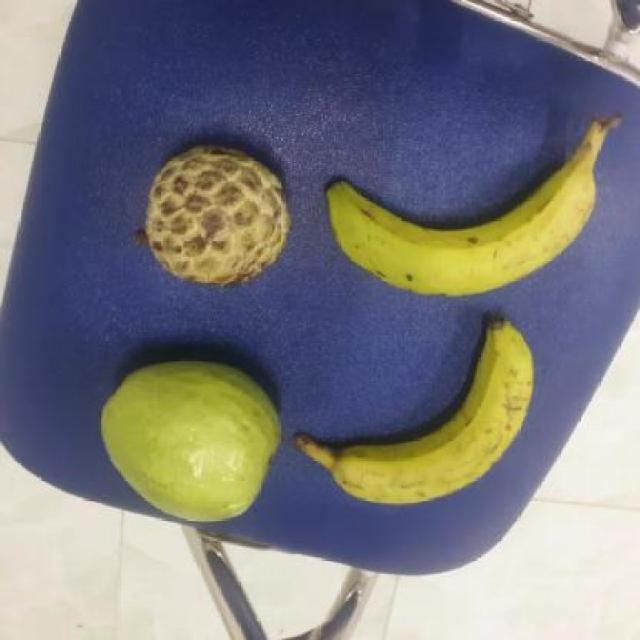banana: (285, 318, 537, 504), (313, 134, 595, 298)
guava: (98, 355, 278, 527)
sugar apple: (131, 146, 289, 286)
